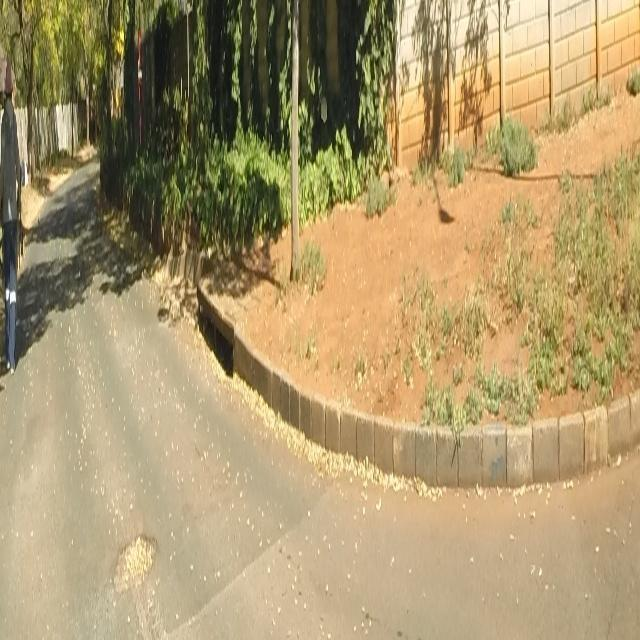pothole: (110, 530, 158, 604)
